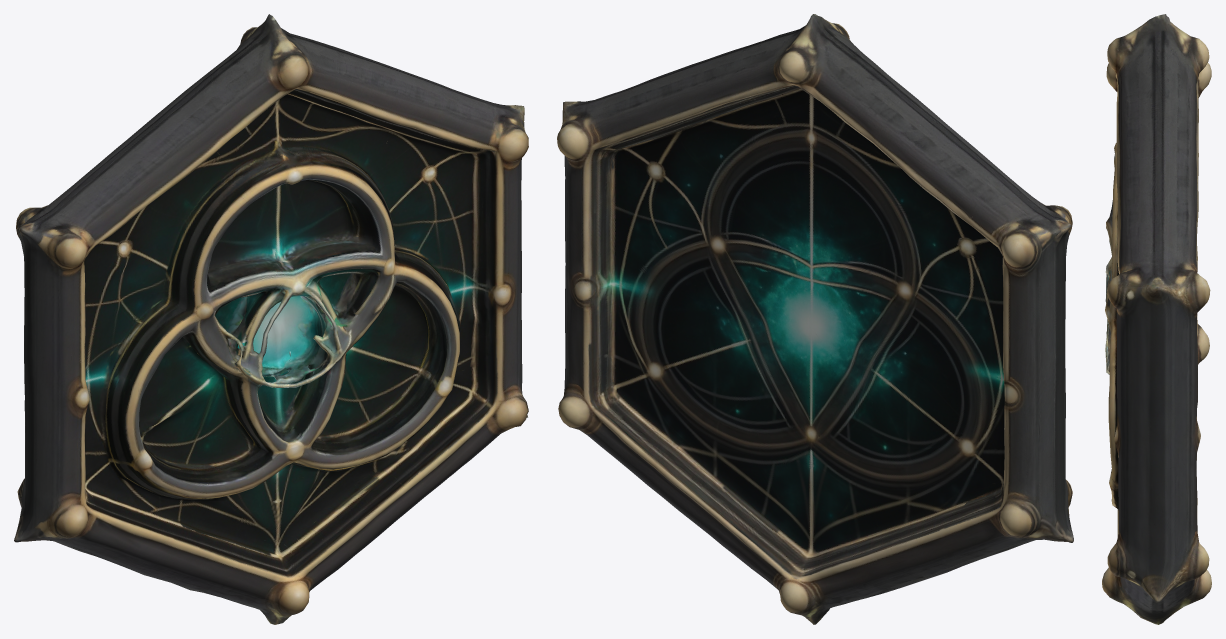
The model's file is cover.glb.
3 renders of one model, left to right at view 1: azimuth 30°, elevation 25°; view 2: azimuth 150°, elevation 25°; view 3: azimuth 270°, elevation 25°, orthographic.
Size of the model in its own units: 1.76 by 2 by 0.3263.
Materials: 1 (1 with a texture image).
